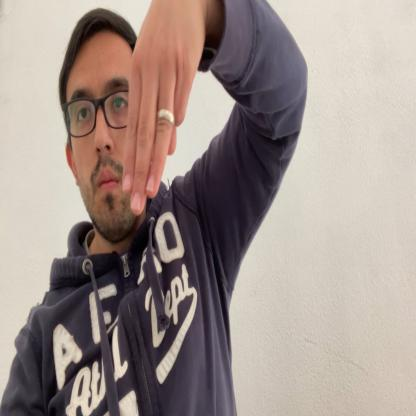M: (123, 1, 204, 214)
